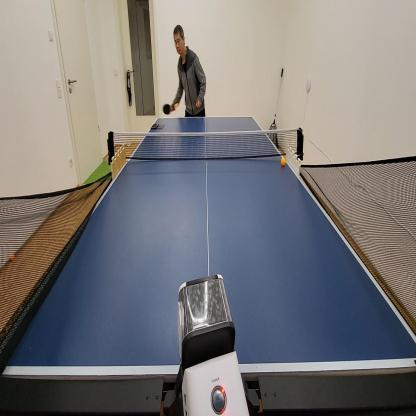Ball: (280, 156, 287, 168), (9, 252, 15, 261), (174, 102, 179, 110)
